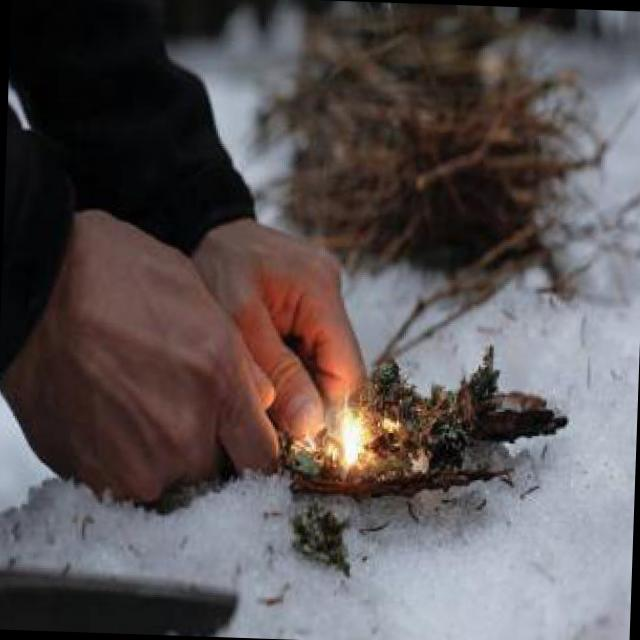fire: (316, 365, 384, 483)
